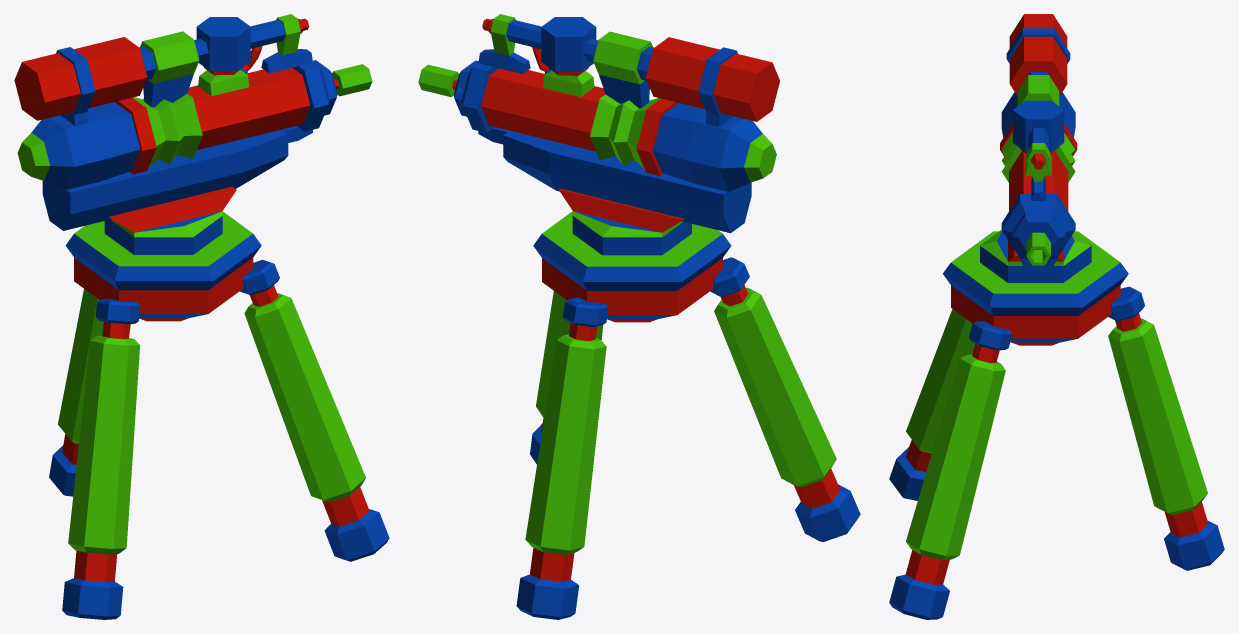
Rendered from turret.fbx.
3 renders of one model, left to right at view 1: azimuth 30°, elevation 25°; view 2: azimuth 150°, elevation 25°; view 3: azimuth 270°, elevation 25°, orthographic. The views are drawn at different scales.
Parts seen in each view (by area): view 1: Turret, Base; view 2: Turret, Base; view 3: Base, Turret.
Part boxes in pixels (box(x1,y1,x2,y2)): Turret: box(14, 14, 372, 254); Base: box(49, 211, 389, 619); Turret: box(418, 14, 779, 255); Base: box(516, 211, 860, 619); Base: box(889, 231, 1224, 619); Turret: box(980, 14, 1091, 282).
Size of the model in its own units: 1.7 by 2.33 by 1.44.
